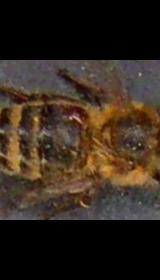varroa_mite: (64, 100, 90, 129)
